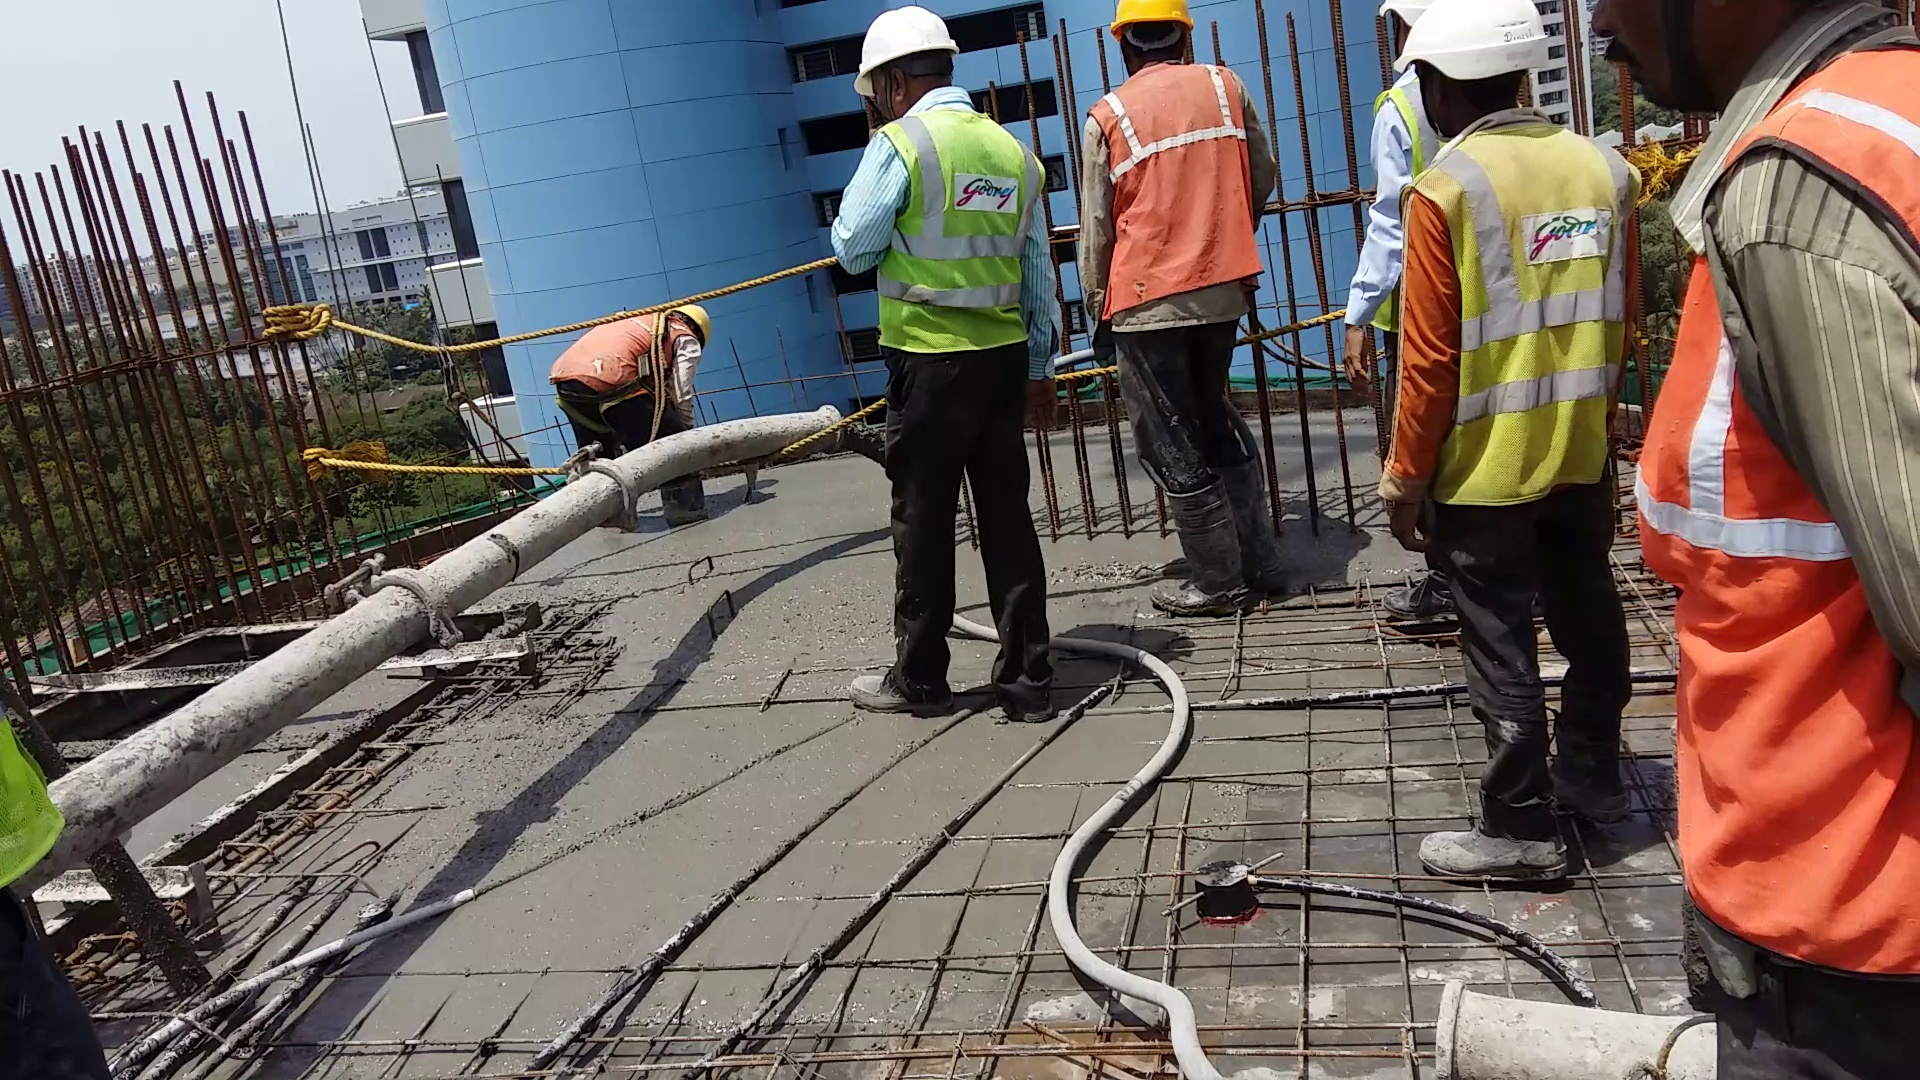NoHardhat: (549, 301, 713, 407)
SAFE: (1400, 1, 1611, 493), (853, 7, 1035, 357), (1095, 1, 1258, 313)
